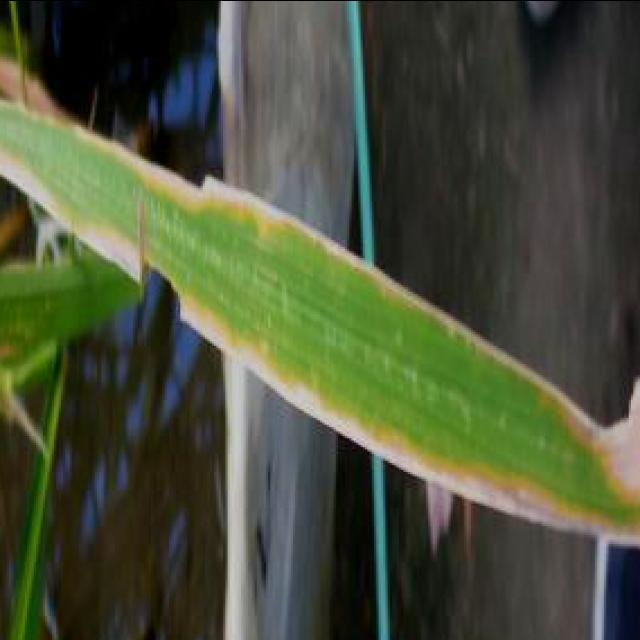Bacterial_Leaf_Blight: (236, 275, 640, 532)
